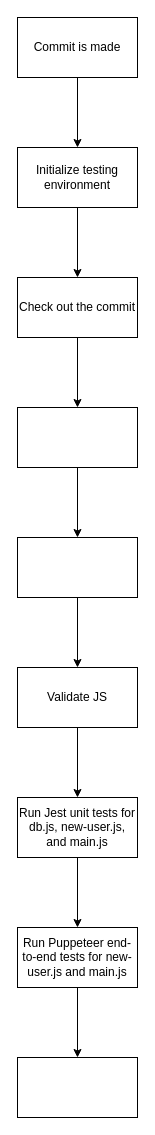
Image size: 155x1135. Some labels were removed from this diagram. The shapes that lost their labels are listed below. From the top down, each one's box as (x1, y1, x2, y2) in pixels, then its label:
(16, 406, 138, 468): Install necessary dependencies
(16, 536, 138, 598): Validate HTML and CSS
(16, 1056, 138, 1118): Complete
